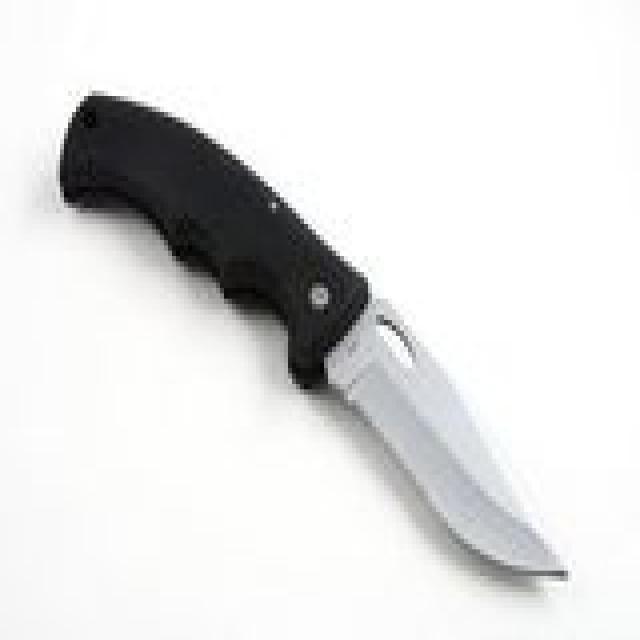Knife: (41, 62, 570, 586)
